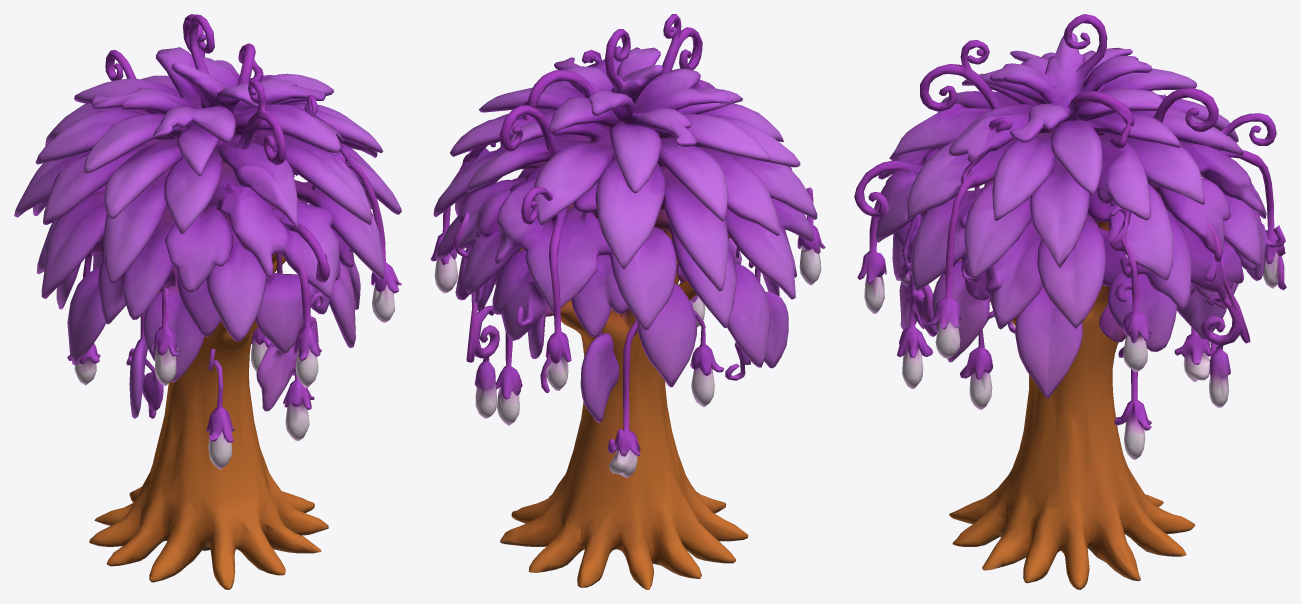
Rendered from tree_wisteria.glb.
3 views of the same model, side by side, from view 1: azimuth 30°, elevation 25°; view 2: azimuth 150°, elevation 25°; view 3: azimuth 270°, elevation 25° (orthographic).
Visible parts, largest first — view 1: tripo_node_04262872-fbe2-4e66-b93e-0371d9677054; view 2: tripo_node_04262872-fbe2-4e66-b93e-0371d9677054; view 3: tripo_node_04262872-fbe2-4e66-b93e-0371d9677054.
Part boxes in pixels (box(x1,y1,x2,y2)): tripo_node_04262872-fbe2-4e66-b93e-0371d9677054: box(14, 14, 401, 589); tripo_node_04262872-fbe2-4e66-b93e-0371d9677054: box(430, 14, 825, 589); tripo_node_04262872-fbe2-4e66-b93e-0371d9677054: box(854, 14, 1286, 589).
Size of the model in its own units: 3.26 by 4.8 by 3.61.
1 material, 1 textured.
